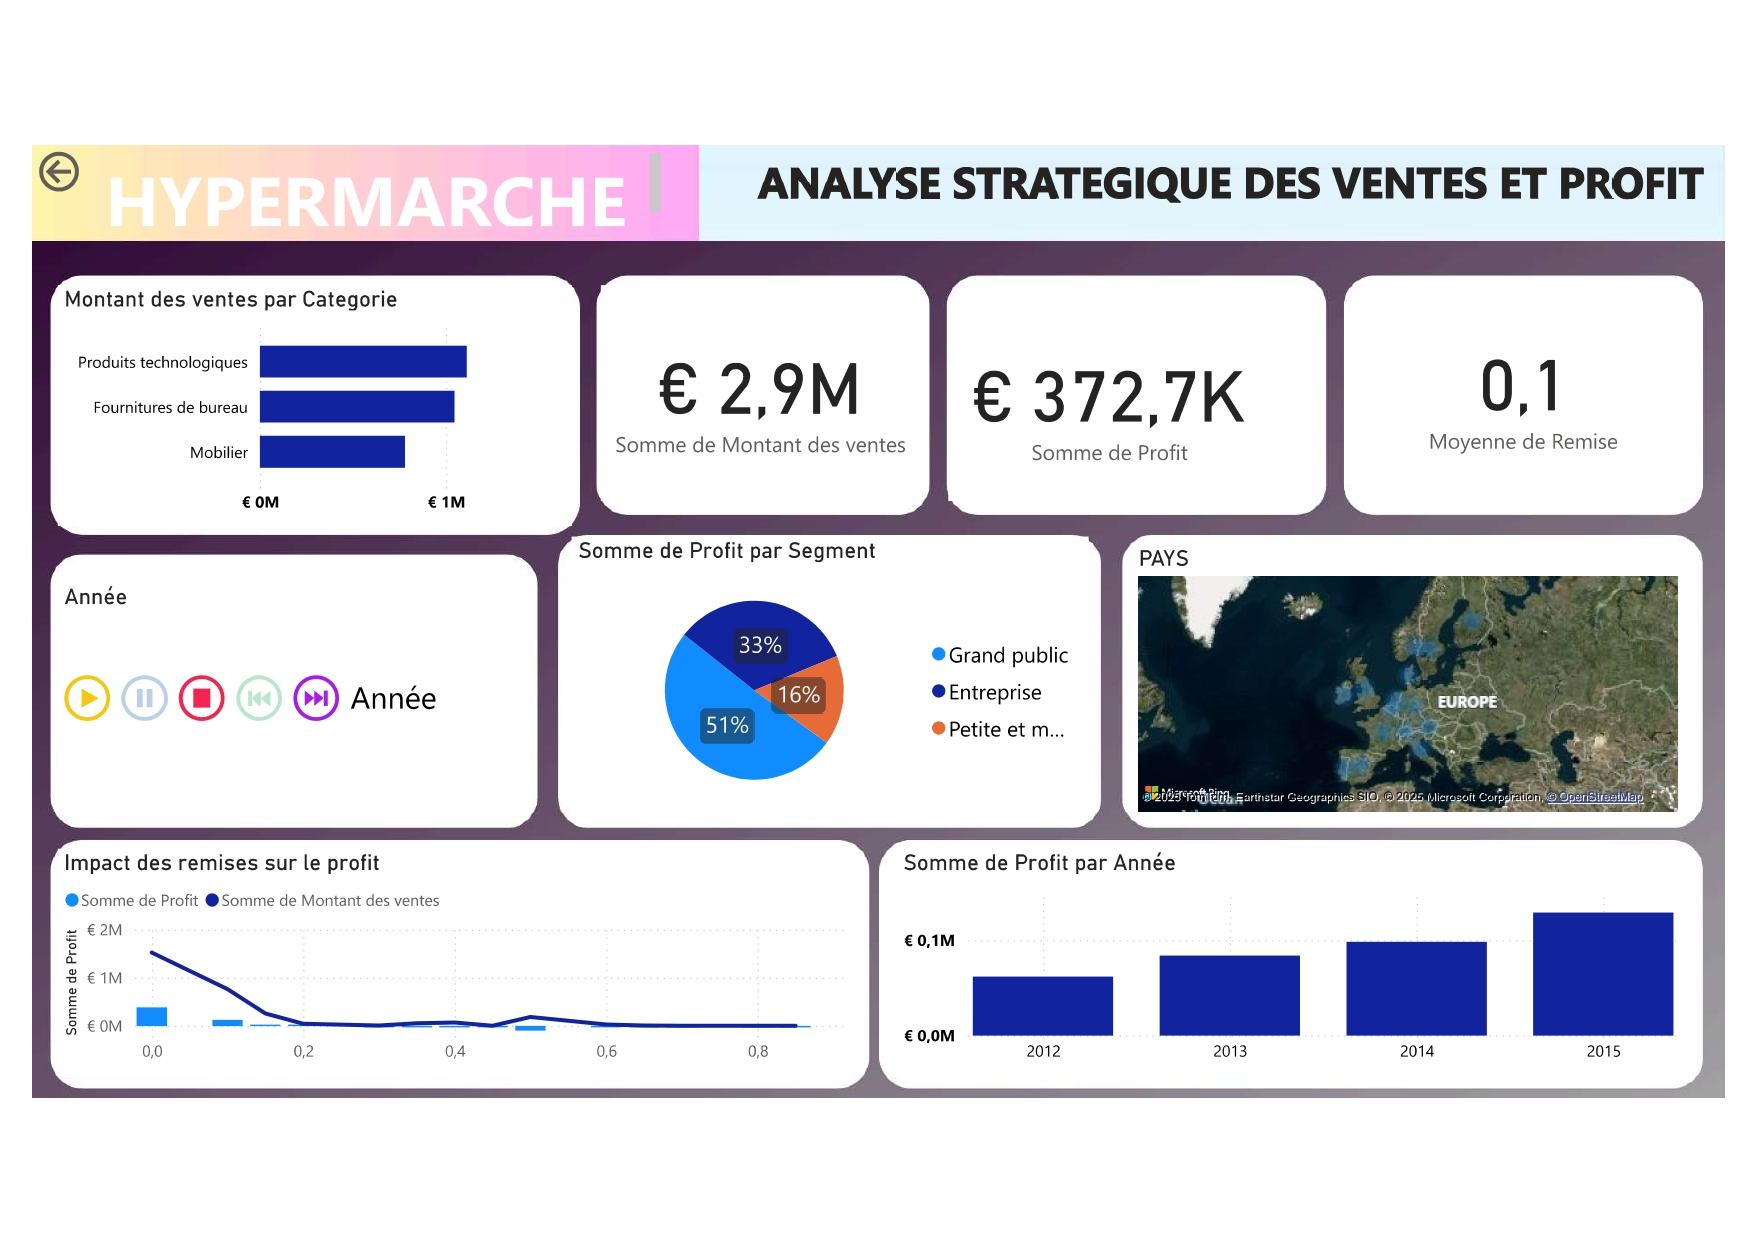

Layout of this report page (visuals, bound fields, positions):
{"tool":"powerbi","page":{"name":"Page 1","canvas":[1280,720],"ordinal":0},"visuals":[{"type":"card","fields":{"Values":["Sum(VENTES.PROFIT)"]},"box":[693.1,117.9,244.1,151],"z":0},{"type":"card","fields":{"Values":["Avg(VENTES.REMISE)"]},"box":[1005.5,117.9,244.1,134.5],"z":1000},{"type":"card","fields":{"Values":["Sum(VENTES.Montant des ventes)"]},"box":[430.3,105.5,242.1,163.4],"z":2000},{"type":"clusteredBarChart","title":"  Montant des ventes par Categorie","fields":{"Y":["Sum(VENTES.Montant des ventes)"],"Category":["PRODUIT.Categorie Hiérarchie.Categorie","PRODUIT.Categorie Hiérarchie.SOUS_CATEGORIE"]},"box":[18.6,105.5,389,182.1],"z":3000},{"type":"actionButton","box":[0,0,100,40],"z":4000},{"type":"pieChart","fields":{"Y":["Sum(VENTES.Profit)"],"Category":["CLIENT.Segment"]},"box":[407.6,295.9,391,213.1],"z":5000},{"type":"map","fields":{"Category":["CLIENT.PAYS"]},"box":[831.7,302.1,417.9,206.9],"z":6000},{"type":"lineStackedColumnComboChart","title":"Impact des remises sur le profit","fields":{"Category":["VENTES.Remise"],"Y":["Sum(VENTES.Profit)"],"Y2":["Sum(VENTES.Montant des ventes)"]},"box":[18.6,531.7,604.1,171.7],"z":7000},{"type":"clusteredColumnChart","fields":{"Category":["DATE.Date.Variation.Hiérarchie de dates.Année","DATE.Date.Variation.Hiérarchie de dates.Trimestre","DATE.Date.Variation.Hiérarchie de dates.Mois","DATE.Date.Variation.Hiérarchie de dates.Jour"],"Y":["Sum(VENTES.Profit)"]},"box":[653.8,531.7,595.9,171.7],"z":8000},{"type":"PBI_CV_16948668_E17D_454B_8664_2F2C470EA8C1","fields":{"category":["DATE.Date.Variation.Hiérarchie de dates.Année","DATE.Date.Variation.Hiérarchie de dates.Trimestre","DATE.Date.Variation.Hiérarchie de dates.Mois","DATE.Date.Variation.Hiérarchie de dates.Jour"]},"box":[18.6,331,300,155.2],"z":9000},{"type":"textbox","box":[496.6,0,784.1,66.2],"z":9001},{"type":"textbox","box":[49.7,0,430.3,66.2],"z":9002}]}

Visuals, with their boxes in screenshot pixels (x1, y1, x2, y2):
card - Sum(VENTES.PROFIT): 942/301/1272/505
card - Avg(VENTES.REMISE): 1364/301/1694/483
card - Sum(VENTES.Montant des ventes): 586/284/914/505
"  Montant des ventes par Categorie" clusteredBarChart: 30/284/556/531
actionButton: 5/142/140/196
pieChart - Sum(VENTES.Profit) x CLIENT.Segment: 556/542/1084/830
map - CLIENT.PAYS: 1129/550/1694/830
"Impact des remises sur le profit" lineStackedColumnComboChart: 30/861/847/1093
clusteredColumnChart - DATE.Date.Variation.Hiérarchie de dates.Année x DATE.Date.Variation.Hiérarchie de dates.Trimestre: 889/861/1694/1093
PBI_CV_16948668_E17D_454B_8664_2F2C470EA8C1 - DATE.Date.Variation.Hiérarchie de dates.Année x DATE.Date.Variation.Hiérarchie de dates.Trimestre: 30/589/435/799
textbox: 676/142/1736/231
textbox: 72/142/654/231
